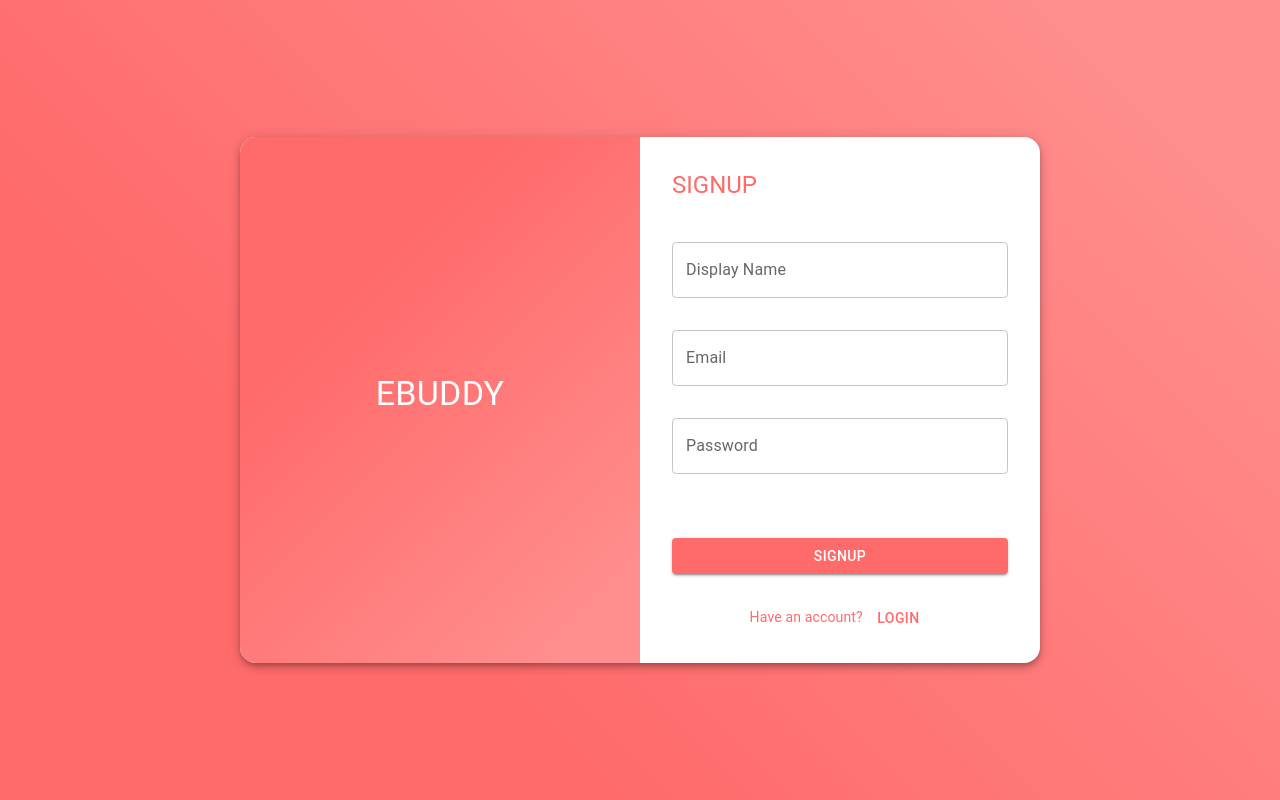
SignupPage Component › shows an error if fields are empty on submission
What coordinates should you click on to do the following:
click the button "SIGNUP"
I would click on:
 (840, 556)
Its box is left=672, top=538, right=1008, bottom=574.
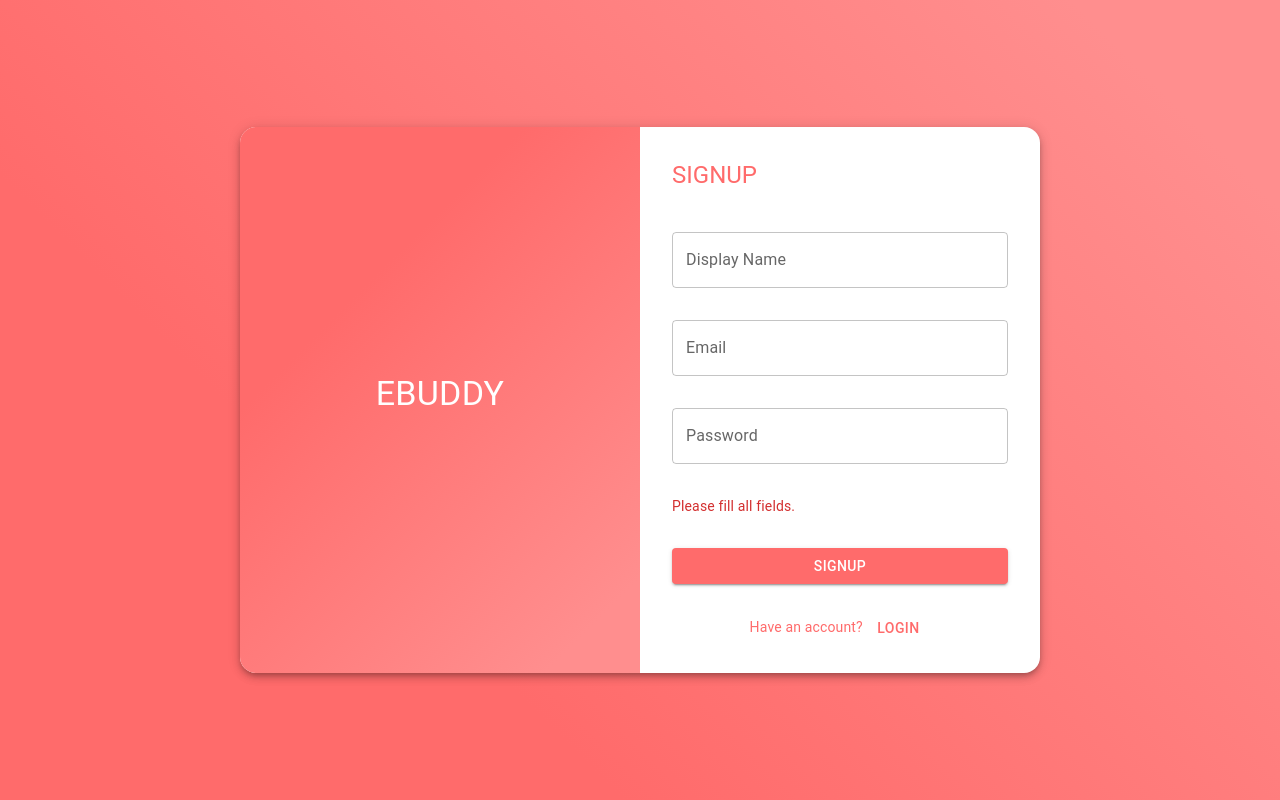
Now the text "Please fill all fields." is shown, box left=672, top=498, right=795, bottom=514
